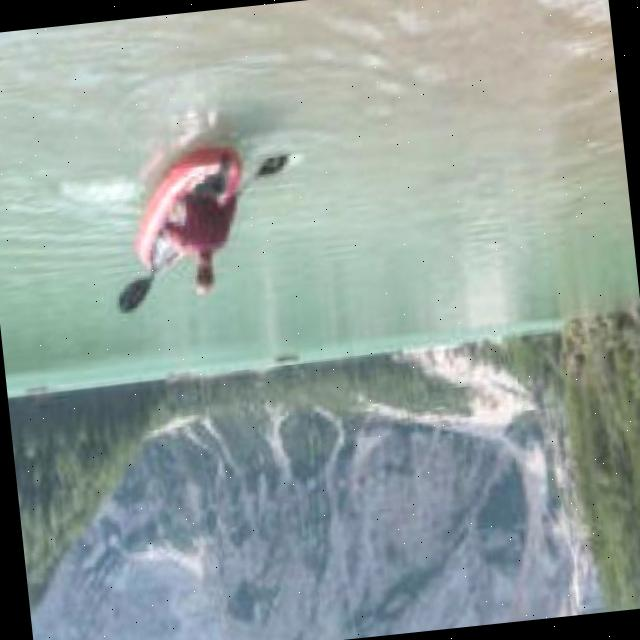kayak: (141, 149, 243, 256)
